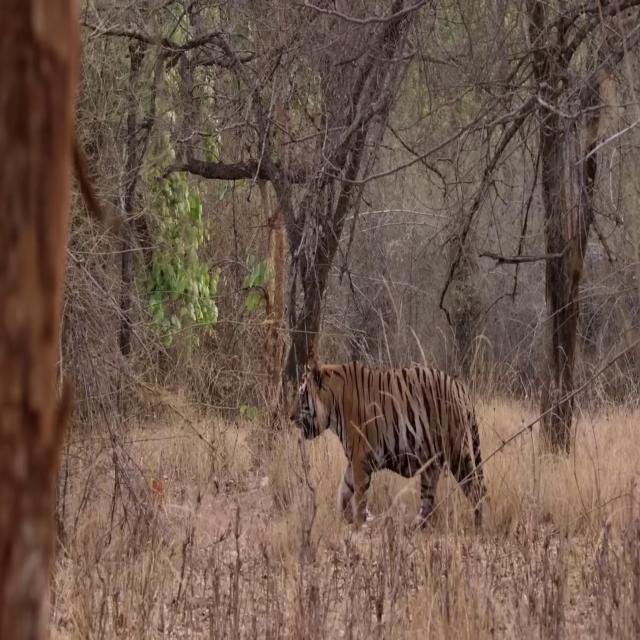tiger: (290, 358, 490, 532)
